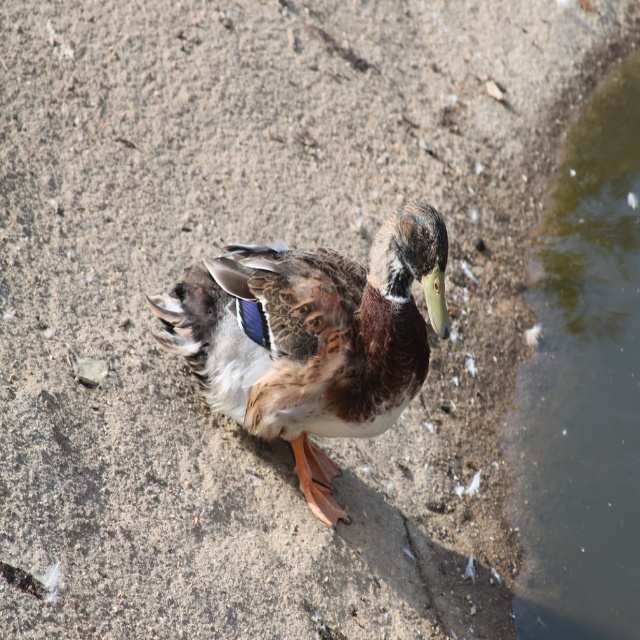Duck: (143, 202, 452, 530)
